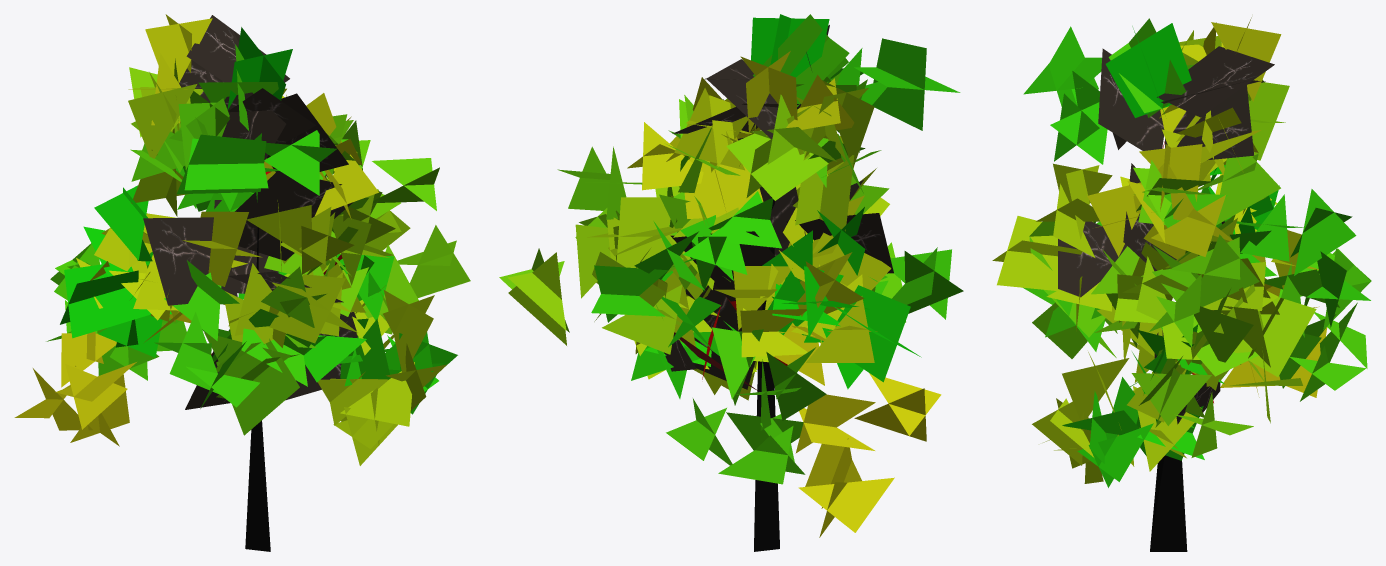
The model's file is linden2 lod4.FBX.
The picture shows the model from 3 angles, left to right: view 1: azimuth 30°, elevation 25°; view 2: azimuth 150°, elevation 25°; view 3: azimuth 270°, elevation 25°; orthographic projection. The views are drawn at different scales.
Parts seen in each view (by area): view 1: linden2_LOD4; view 2: linden2_LOD4; view 3: linden2_LOD4.
Part boxes in pixels (x1,y1,x2,y2): linden2_LOD4: (14,14,470,551); linden2_LOD4: (499,14,963,551); linden2_LOD4: (992,17,1371,551).
Size of the model in its own units: 118052 by 146125 by 96635.
